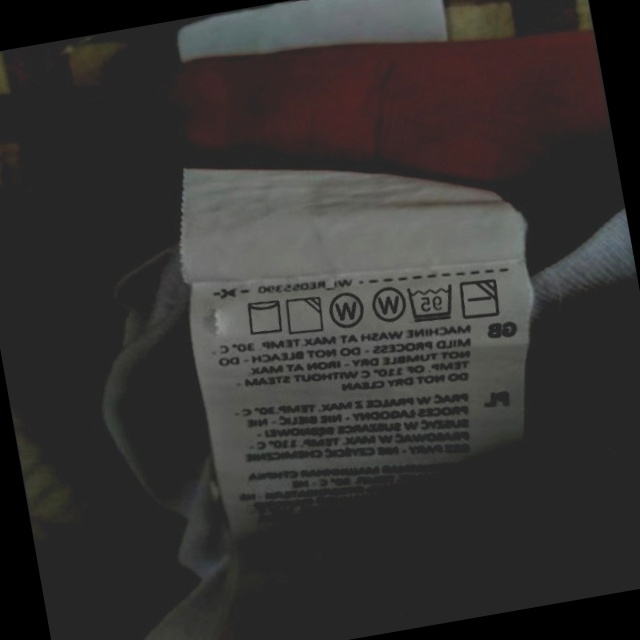95C: (402, 277, 459, 327)
dry_flat_in_shade: (455, 272, 505, 324)
line_dry: (240, 293, 288, 340)
shade_dry: (281, 291, 328, 339)
wet_clean: (323, 287, 369, 335), (365, 279, 410, 328)
